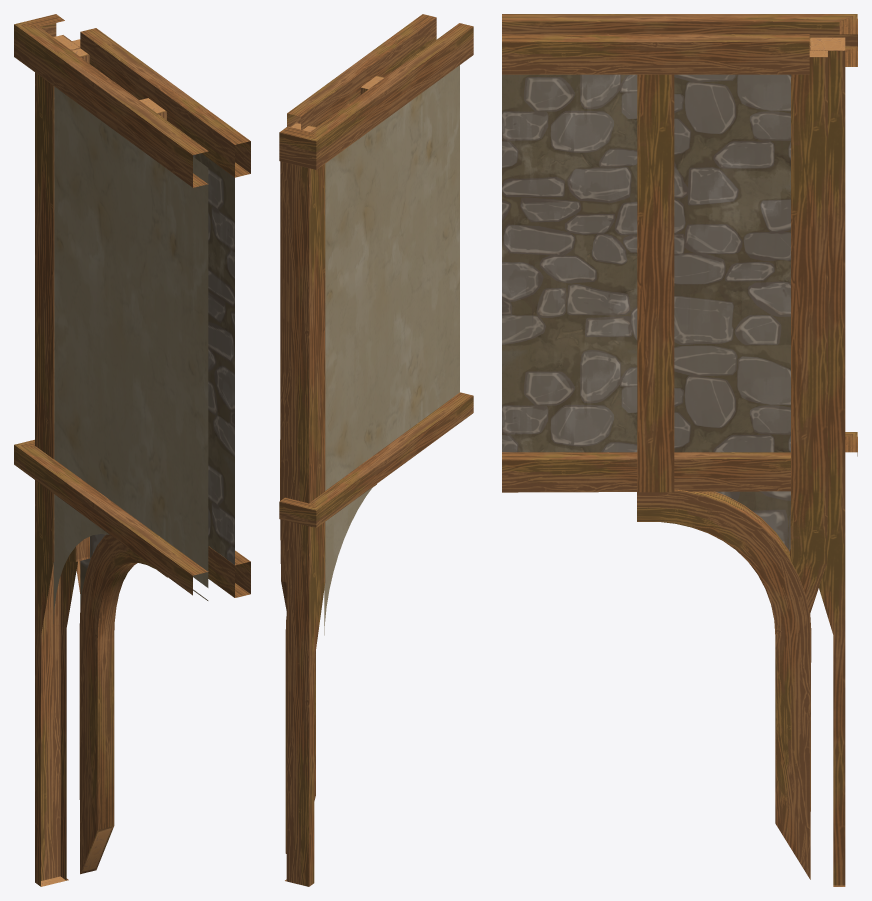
File: Overhang_Side_UnevenBrick_Long_R.gltf
3 views of the same model, side by side, from view 1: azimuth 30°, elevation 25°; view 2: azimuth 150°, elevation 25°; view 3: azimuth 270°, elevation 25° (orthographic). The views are drawn at different scales.
Parts seen in each view (by area): view 1: Overhang_Side_UnevenBrick_Long_R; view 2: Overhang_Side_UnevenBrick_Long_R; view 3: Overhang_Side_UnevenBrick_Long_R.
Part boxes in pixels (x1,y1,x2,y2): Overhang_Side_UnevenBrick_Long_R: [14, 14, 250, 886]; Overhang_Side_UnevenBrick_Long_R: [279, 14, 473, 886]; Overhang_Side_UnevenBrick_Long_R: [502, 14, 857, 886].
Bounding box in the file's own units: 0.4793 × 6.12 × 2.31.
Materials: 3 (3 with a texture image).
